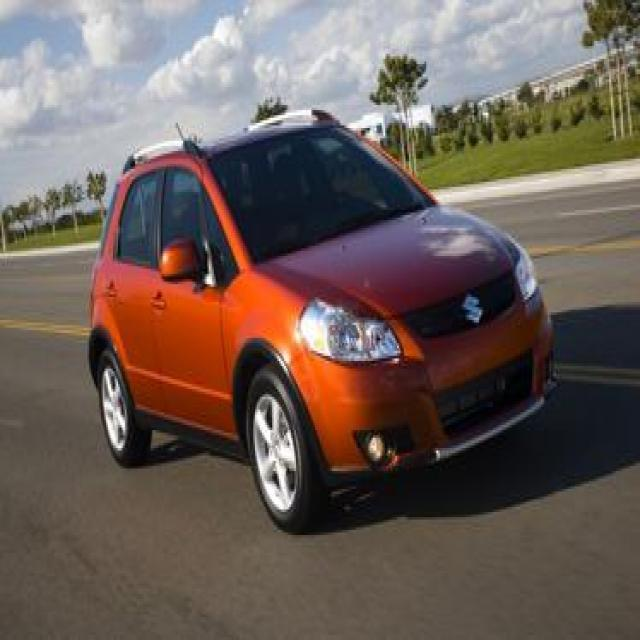Car: (51, 87, 575, 512)
